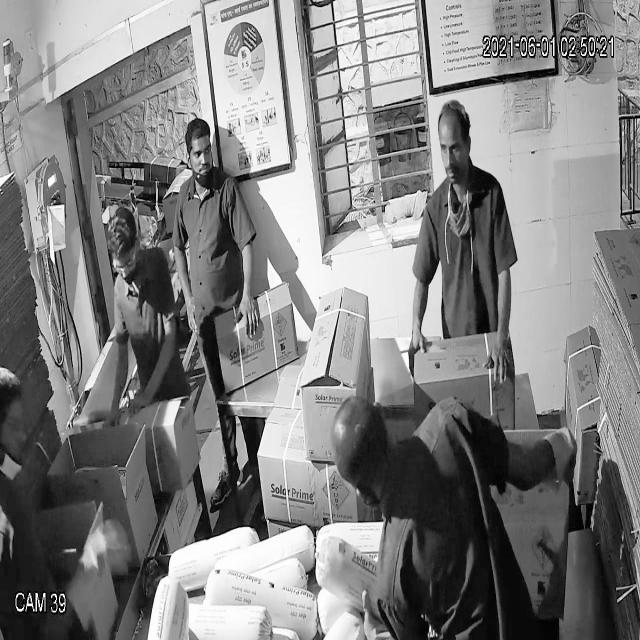glasses: (110, 244, 140, 280)
no-glass: (434, 135, 475, 167), (182, 137, 220, 171)
